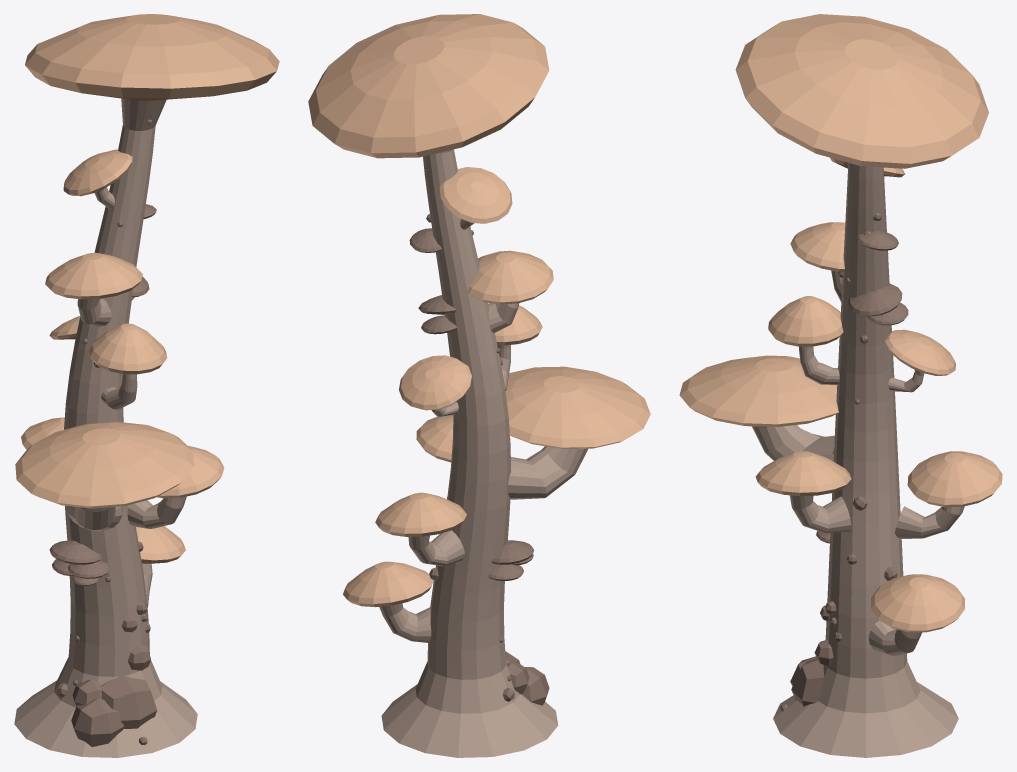
The model's file is mushroomtree07_2.glb.
3 views of the same model, side by side, from view 1: azimuth 30°, elevation 25°; view 2: azimuth 150°, elevation 25°; view 3: azimuth 270°, elevation 25° (orthographic). The views are drawn at different scales.
Parts seen in each view (by area): view 1: Cylinder.004; view 2: Cylinder.004; view 3: Cylinder.004.
Boxes of the visible parts, bbox=[...] form: Cylinder.004: bbox=[14, 14, 279, 757]; Cylinder.004: bbox=[308, 14, 650, 757]; Cylinder.004: bbox=[679, 14, 1002, 757].
Bounding box in the file's own units: 13.51 × 31.88 × 13.33.
Materials: 1 (1 with a texture image).
